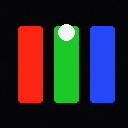2 circle: (58, 24, 74, 40)
